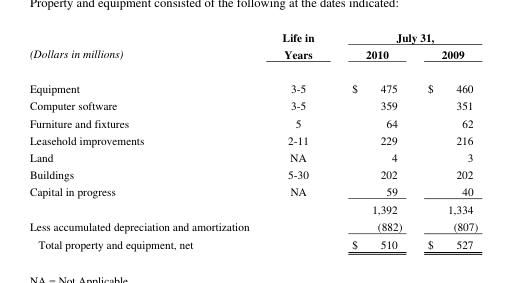table: (28, 28, 477, 251)
table column: (28, 28, 265, 251), (332, 28, 414, 251), (265, 28, 332, 251), (414, 28, 477, 251)
table column header: (28, 28, 477, 70)
table row: (28, 70, 477, 96), (28, 45, 477, 70), (28, 181, 477, 199), (28, 216, 477, 234), (28, 28, 477, 45), (28, 96, 477, 113), (28, 113, 477, 130), (28, 130, 477, 147), (28, 147, 477, 164), (28, 164, 477, 181), (28, 199, 477, 216), (28, 234, 477, 251)
table spanning cell: (28, 28, 265, 70), (265, 28, 332, 70), (332, 28, 477, 45)
